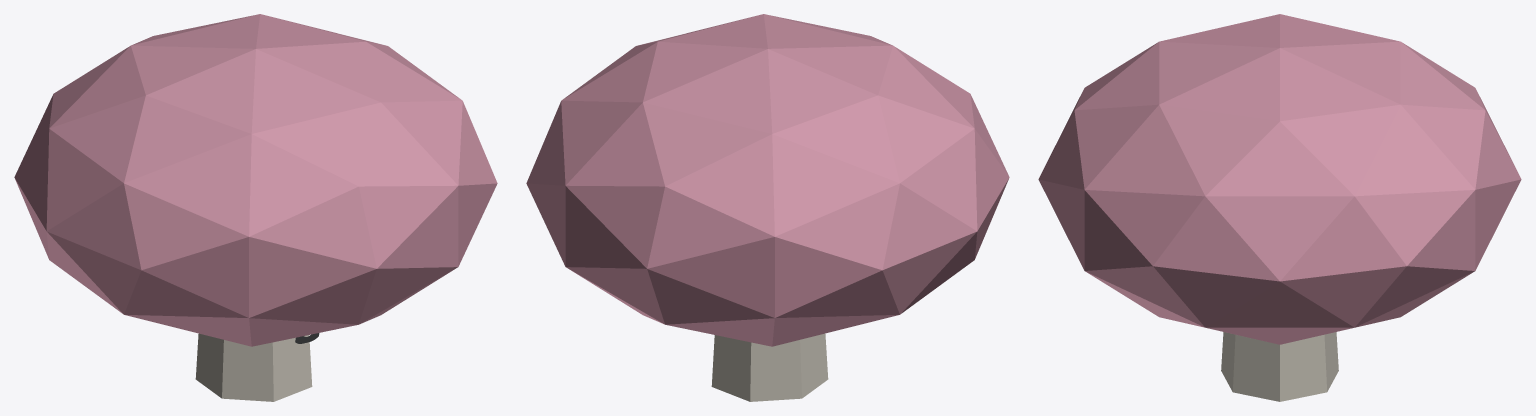
Rendered from mycetinis-opacus.glb.
3 views of the same model, side by side, from view 1: azimuth 30°, elevation 25°; view 2: azimuth 150°, elevation 25°; view 3: azimuth 270°, elevation 25° (orthographic).
Parts seen in each view (by area): view 1: cap, stalk; view 2: cap, stalk; view 3: cap, stalk.
Boxes of the visible parts, x1,y1,x2,y2 form: cap: (14,14,497,346); stalk: (195,333,312,401); cap: (526,14,1009,346); stalk: (711,333,828,401); cap: (1038,14,1521,344); stalk: (1221,332,1338,401).
Size of the model in its own units: 0.4 by 0.3 by 0.4.
